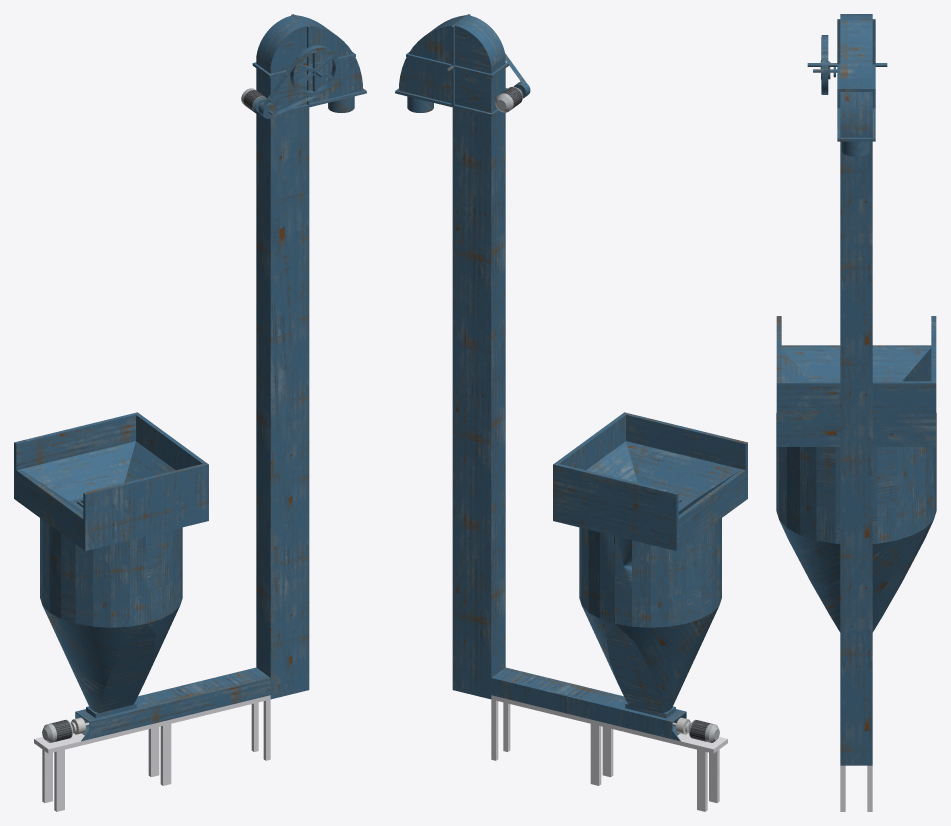
3 renders of one model, left to right at view 1: azimuth 30°, elevation 25°; view 2: azimuth 150°, elevation 25°; view 3: azimuth 270°, elevation 25°, orthographic. The views are drawn at different scales.
Parts seen in each view (by area): view 1: root.005, root.004, root; view 2: root.005, root.004, root; view 3: root.005, root.004, root.
Part boxes in pixels (<box>): root.005: <box>14,14,366,741</box>; root.004: <box>40,518,182,627</box>; root: <box>34,695,270,811</box>; root.005: <box>395,14,747,741</box>; root.004: <box>579,518,721,627</box>; root: <box>491,695,727,811</box>; root.005: <box>776,14,936,765</box>; root.004: <box>776,413,936,543</box>; root: <box>840,765,872,811</box>.
Bounding box in the file's own units: 4.11 × 8.98 × 1.6.
5 materials, 4 textured.
